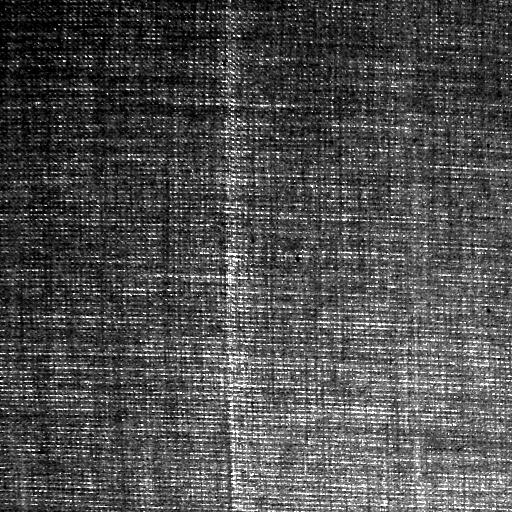fabric_missing_pick: (219, 1, 259, 512), (220, 5, 259, 504)
